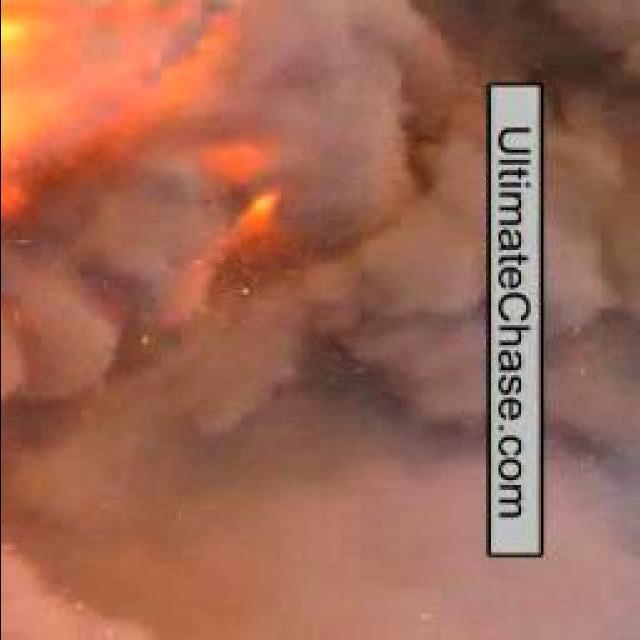Fire: (0, 0, 310, 275)
